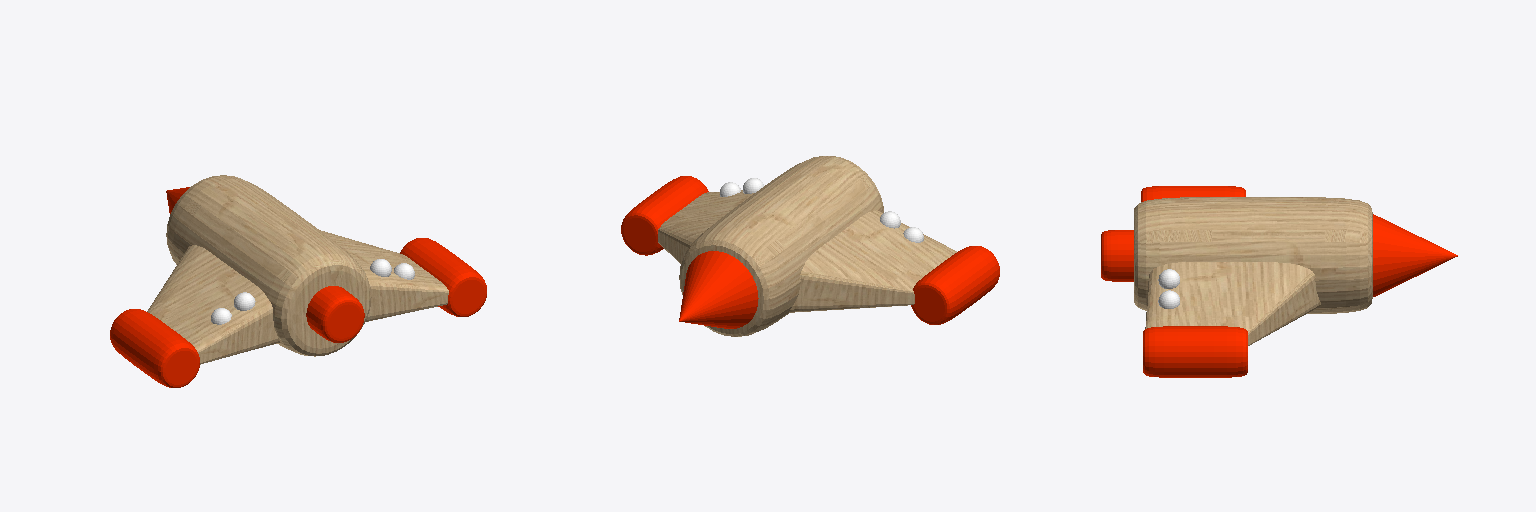
3 views of the same model, side by side, from view 1: azimuth 30°, elevation 25°; view 2: azimuth 150°, elevation 25°; view 3: azimuth 270°, elevation 25° (orthographic).
Bounding box in the file's own units: 453 × 139 × 422.
Materials: 3 (1 with a texture image).